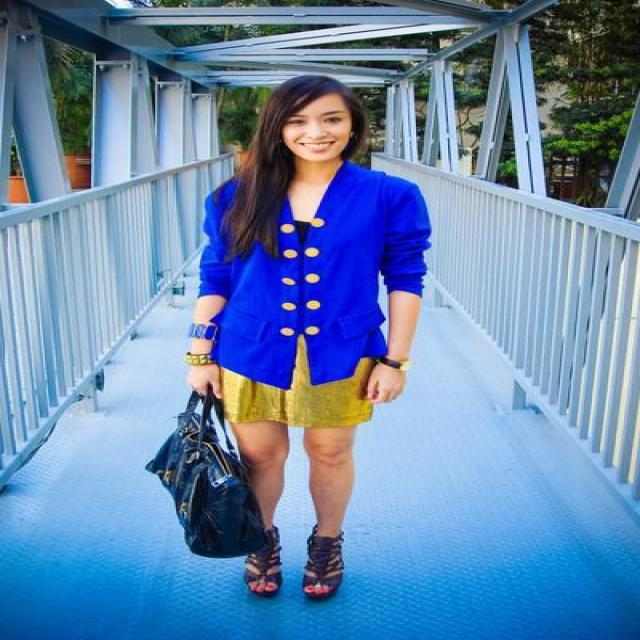bag: (146, 382, 280, 562)
jacket: (200, 161, 429, 389)
shoe: (244, 524, 342, 602)
skirt: (216, 335, 402, 430)
